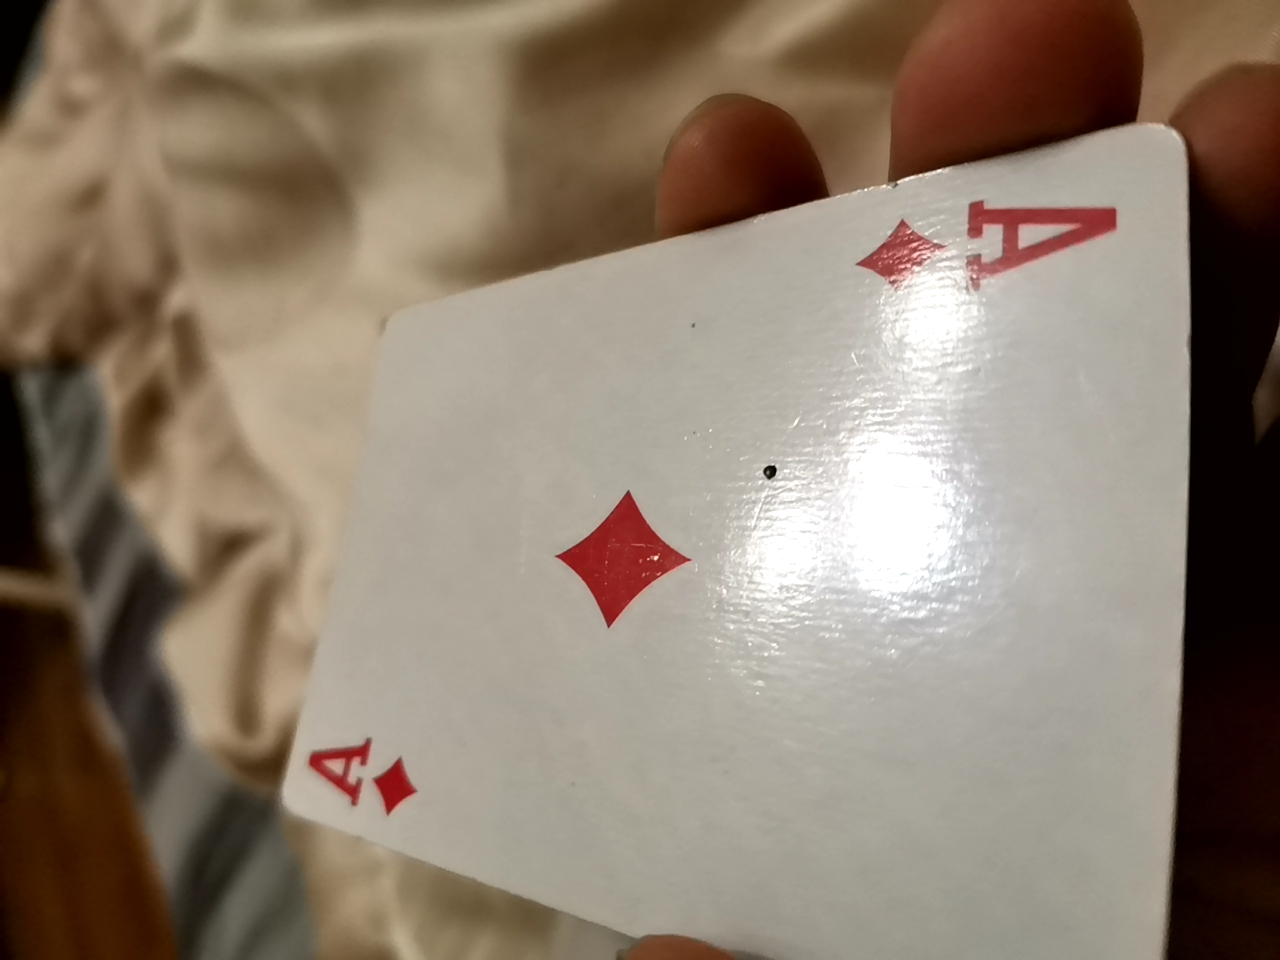fk a: (218, 170, 1154, 960)
